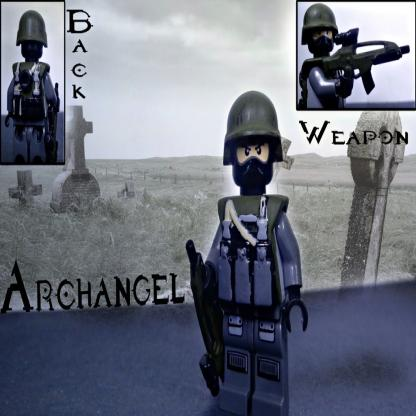Helmet: (222, 94, 288, 188), (302, 4, 339, 46), (15, 11, 49, 50)
